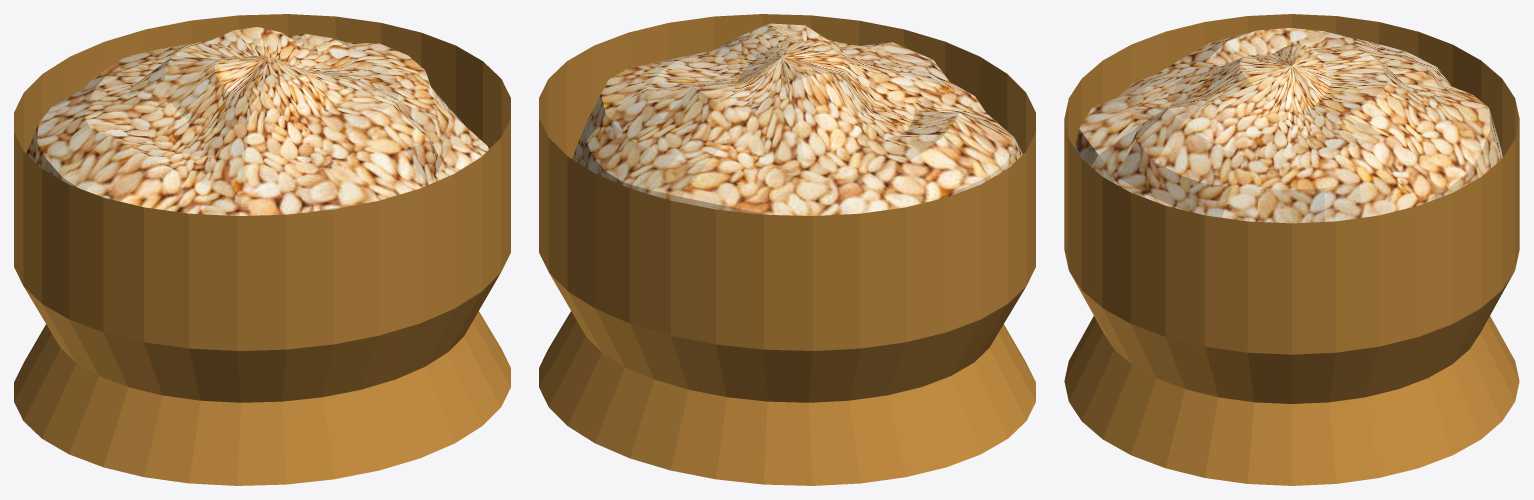
File: Wijen.fbx
3 views of the same model, side by side, from view 1: azimuth 30°, elevation 25°; view 2: azimuth 150°, elevation 25°; view 3: azimuth 270°, elevation 25° (orthographic). The views are drawn at different scales.
Visible parts, largest first — view 1: Cylinder, Sphere; view 2: Cylinder, Sphere; view 3: Cylinder, Sphere.
Part boxes in pixels (<box>): Cylinder: <box>14,14,510,485</box>; Sphere: <box>26,27,488,215</box>; Cylinder: <box>539,14,1035,485</box>; Sphere: <box>572,23,1022,215</box>; Cylinder: <box>1064,14,1519,485</box>; Sphere: <box>1075,28,1502,223</box>.
Bounding box in the file's own units: 99.52 × 70.4 × 91.41.
Materials: 2 (1 with a texture image).
